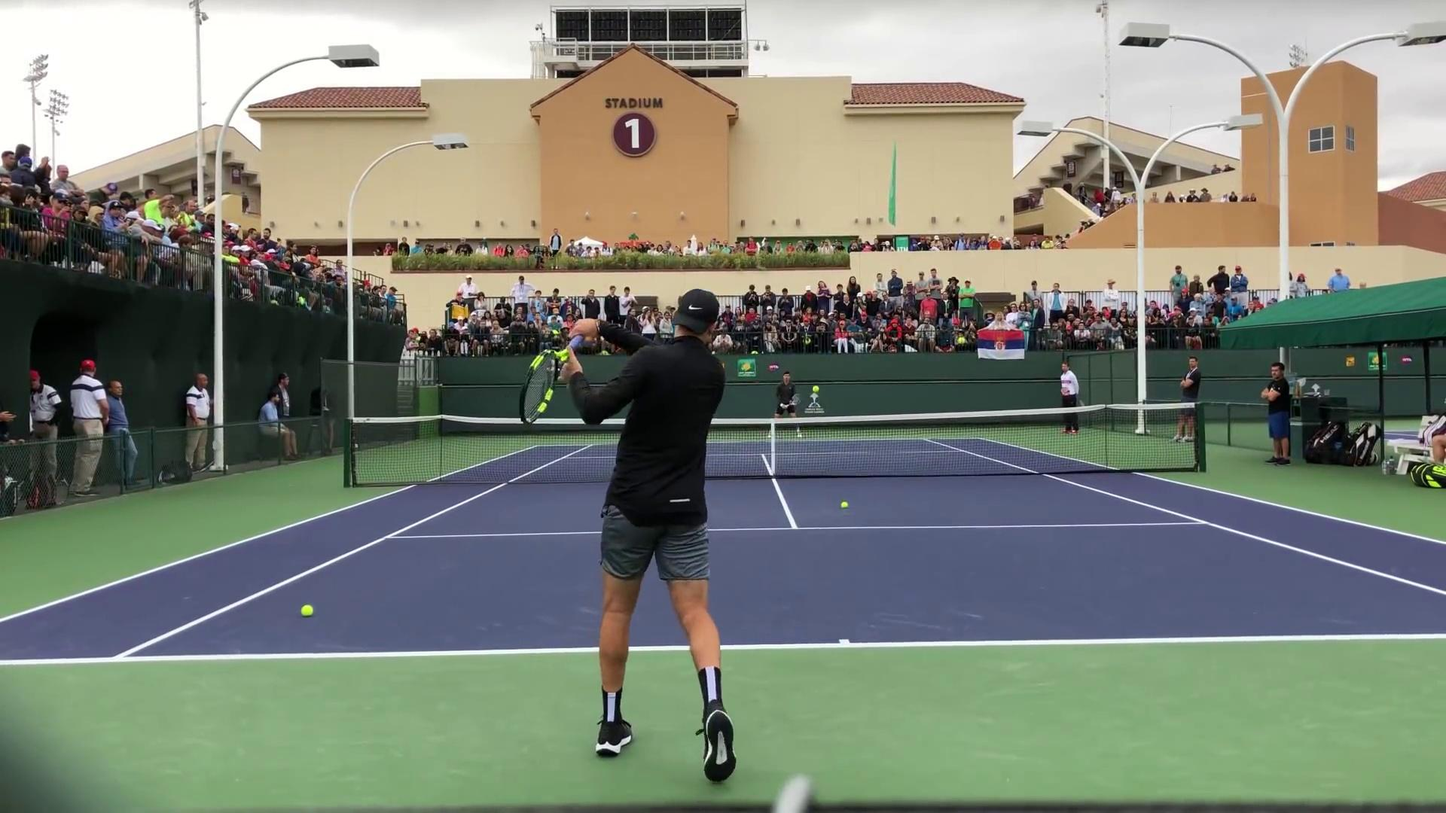ball: (300, 604, 313, 617), (840, 501, 848, 509), (812, 386, 820, 392)
